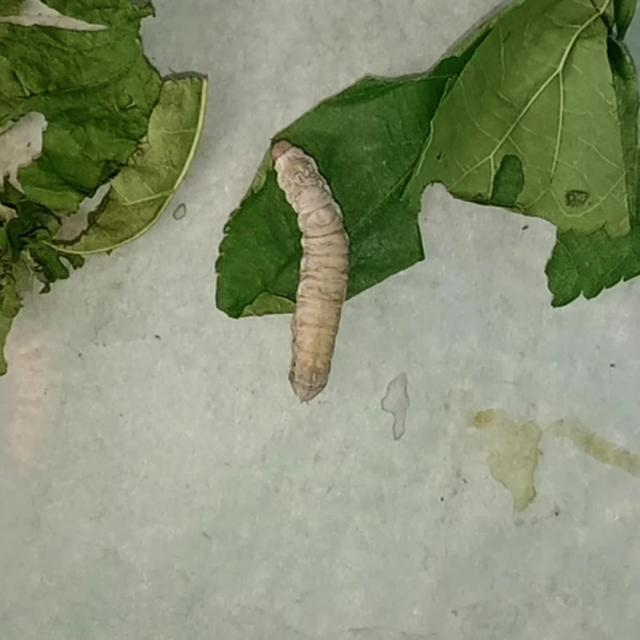Grasserie: (257, 136, 363, 417)
